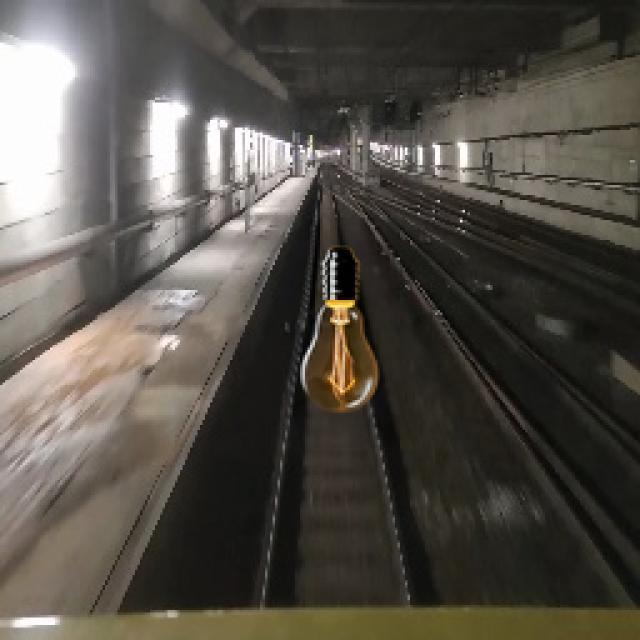rail: (238, 158, 452, 612)
